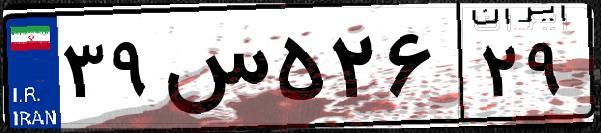2: (330, 28, 385, 110), (475, 38, 525, 113)
3: (57, 26, 110, 100)
5: (270, 28, 330, 110)
6: (385, 28, 445, 110)
9: (525, 38, 570, 115), (110, 28, 158, 98)
س: (158, 20, 270, 120)
